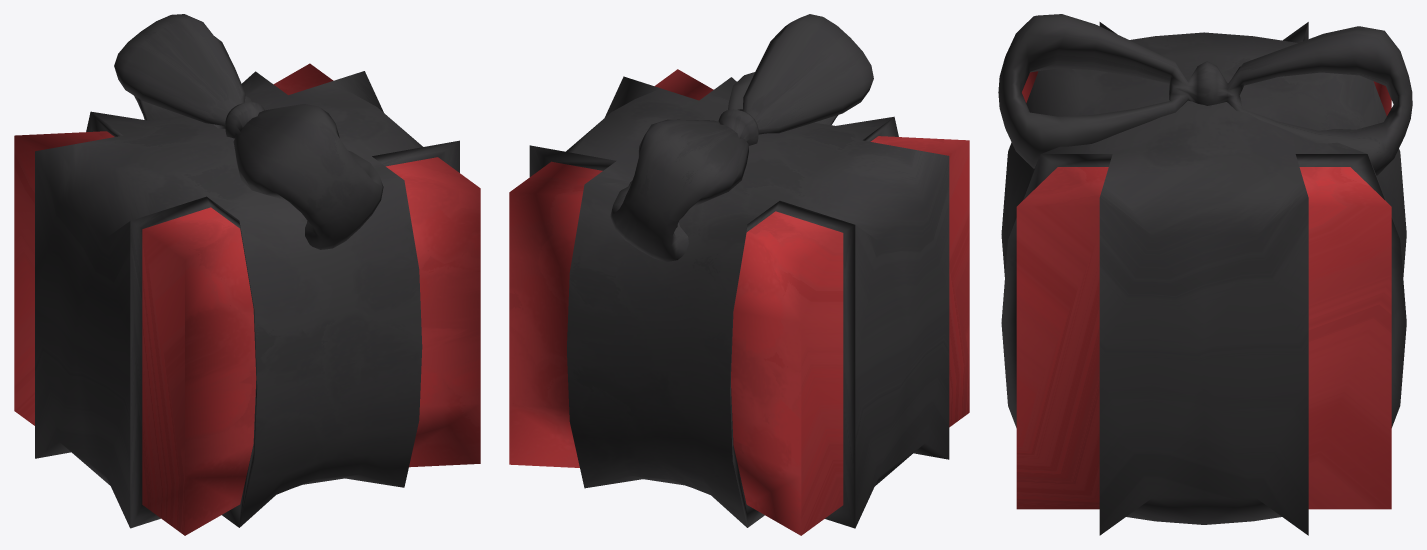
File: Mystery box bad.fbx
3 views of the same model, side by side, from view 1: azimuth 30°, elevation 25°; view 2: azimuth 150°, elevation 25°; view 3: azimuth 270°, elevation 25° (orthographic). The views are drawn at different scales.
Parts seen in each view (by area): view 1: pasted__pCube4; view 2: pasted__pCube4; view 3: pasted__pCube4.
Boxes of the visible parts, x1,y1,x2,y2 form: pasted__pCube4: [14, 14, 480, 535]; pasted__pCube4: [509, 14, 969, 535]; pasted__pCube4: [998, 14, 1412, 535].
Size of the model in its own units: 5.39 by 6.05 by 5.09.
